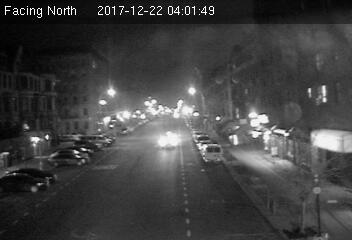car: (159, 132, 179, 151)
truck: (200, 144, 223, 166)
